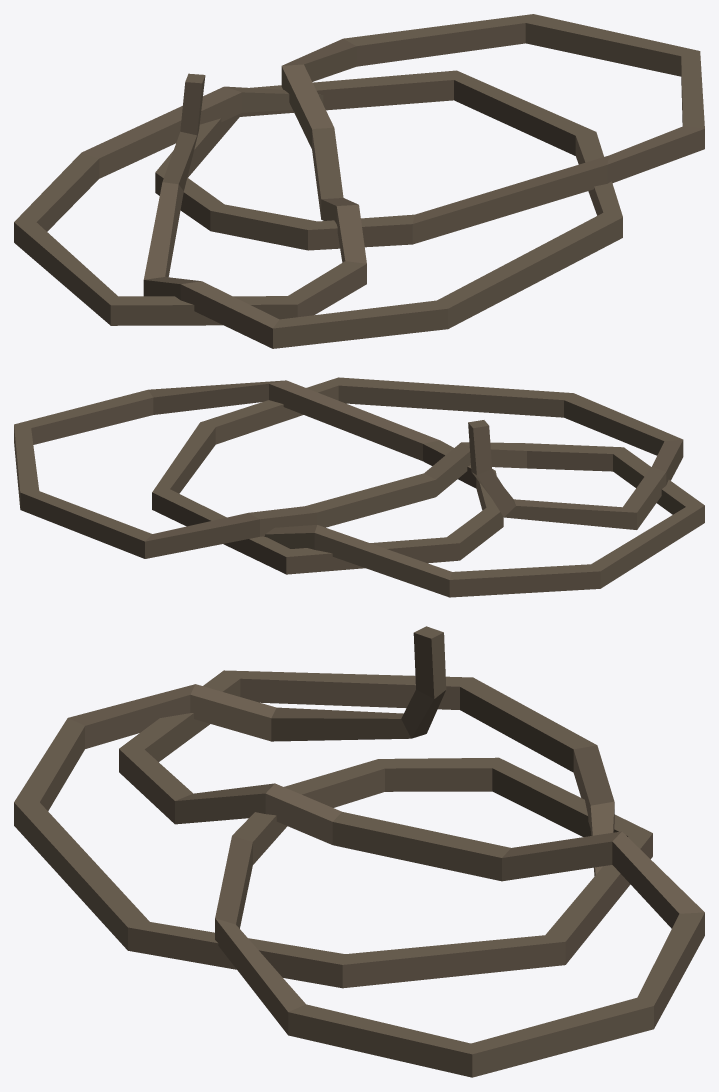
Rendered from SM_Prop_RopeSlide_01.fbx.
The picture shows the model from 3 angles, top to bottom: view 1: azimuth 30°, elevation 25°; view 2: azimuth 150°, elevation 25°; view 3: azimuth 270°, elevation 25°; orthographic projection. The views are drawn at different scales.
Visible parts, largest first — view 1: SM_Prop_RopeSlide_01; view 2: SM_Prop_RopeSlide_01; view 3: SM_Prop_RopeSlide_01.
Part boxes in pixels (x1,y1,x2,y2): SM_Prop_RopeSlide_01: [14, 14, 704, 348]; SM_Prop_RopeSlide_01: [14, 377, 704, 597]; SM_Prop_RopeSlide_01: [14, 626, 704, 1077].
Bounding box in the file's own units: 131 × 25.81 × 98.41.
